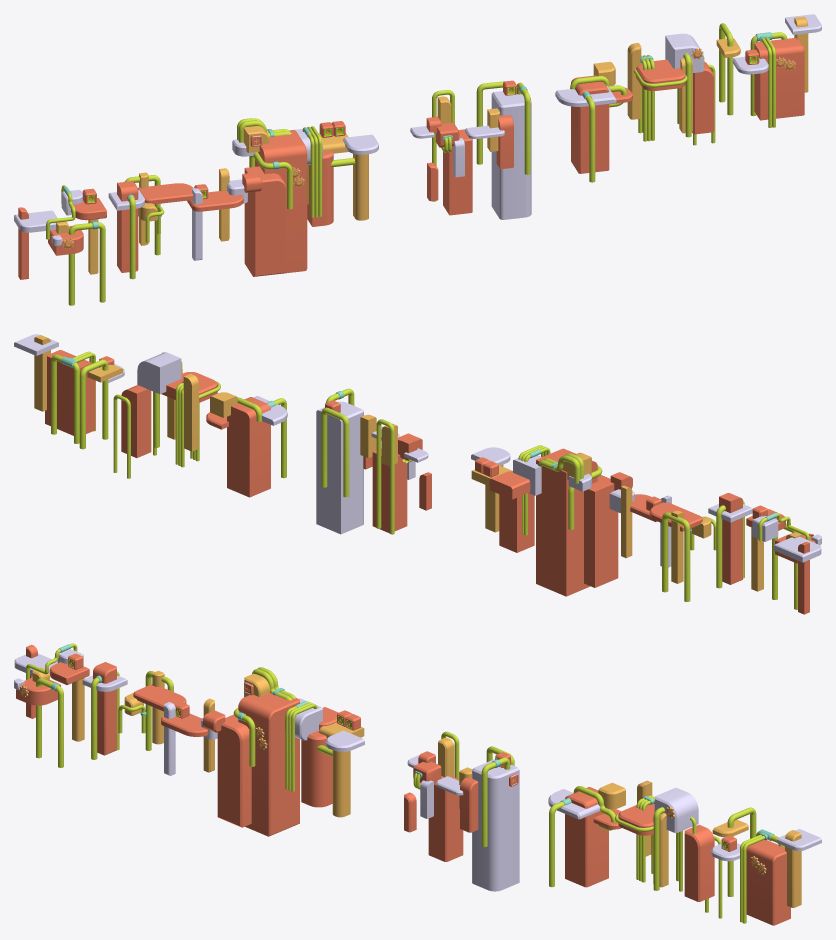
The model's file is BACKGROUND_PLATFORM.fbx.
The picture shows the model from 3 angles, top to bottom: view 1: azimuth 30°, elevation 25°; view 2: azimuth 150°, elevation 25°; view 3: azimuth 330°, elevation 25°; orthographic projection.
Visible parts, largest first — view 1: BACKGROUND_PLATFORM_02, BACKGROUND_PLATFORM_03, BACKGROUND_PLATFORM_06, BACKGROUND_PLATFORM_05, BACKGROUND_PLATFORM_01, BACKGROUND_PLATFORM_04; view 2: BACKGROUND_PLATFORM_02, BACKGROUND_PLATFORM_03, BACKGROUND_PLATFORM_05, BACKGROUND_PLATFORM_06, BACKGROUND_PLATFORM_04, BACKGROUND_PLATFORM_01; view 3: BACKGROUND_PLATFORM_02, BACKGROUND_PLATFORM_03, BACKGROUND_PLATFORM_05, BACKGROUND_PLATFORM_06, BACKGROUND_PLATFORM_04, BACKGROUND_PLATFORM_01.
Part boxes in pixels (bbox=[...]): BACKGROUND_PLATFORM_02: bbox=[108, 118, 378, 279]; BACKGROUND_PLATFORM_03: bbox=[410, 80, 531, 219]; BACKGROUND_PLATFORM_06: bbox=[716, 14, 821, 127]; BACKGROUND_PLATFORM_05: bbox=[627, 33, 715, 145]; BACKGROUND_PLATFORM_01: bbox=[14, 185, 106, 305]; BACKGROUND_PLATFORM_04: bbox=[555, 61, 632, 182]; BACKGROUND_PLATFORM_02: bbox=[471, 445, 752, 601]; BACKGROUND_PLATFORM_03: bbox=[316, 388, 431, 534]; BACKGROUND_PLATFORM_05: bbox=[113, 352, 220, 478]; BACKGROUND_PLATFORM_06: bbox=[14, 334, 124, 449]; BACKGROUND_PLATFORM_04: bbox=[206, 392, 287, 497]; BACKGROUND_PLATFORM_01: bbox=[746, 505, 821, 614]; BACKGROUND_PLATFORM_02: bbox=[82, 662, 364, 836]; BACKGROUND_PLATFORM_03: bbox=[404, 731, 519, 891]; BACKGROUND_PLATFORM_05: bbox=[615, 780, 722, 918]; BACKGROUND_PLATFORM_06: bbox=[711, 807, 821, 925]; BACKGROUND_PLATFORM_04: bbox=[548, 782, 625, 887]; BACKGROUND_PLATFORM_01: bbox=[14, 643, 89, 767].
Size of the model in its own units: 7556 by 1265 by 703.
